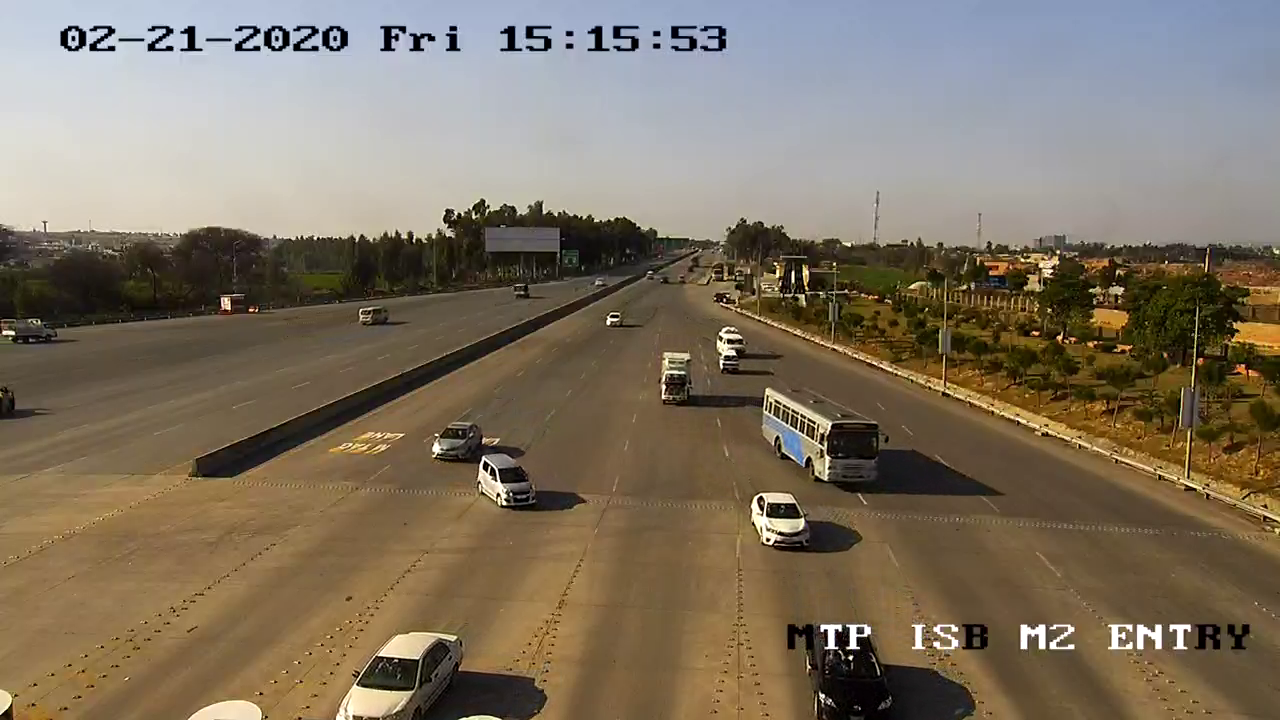f1: (748, 486, 821, 556), (475, 448, 542, 520)
f4: (759, 378, 892, 495)
